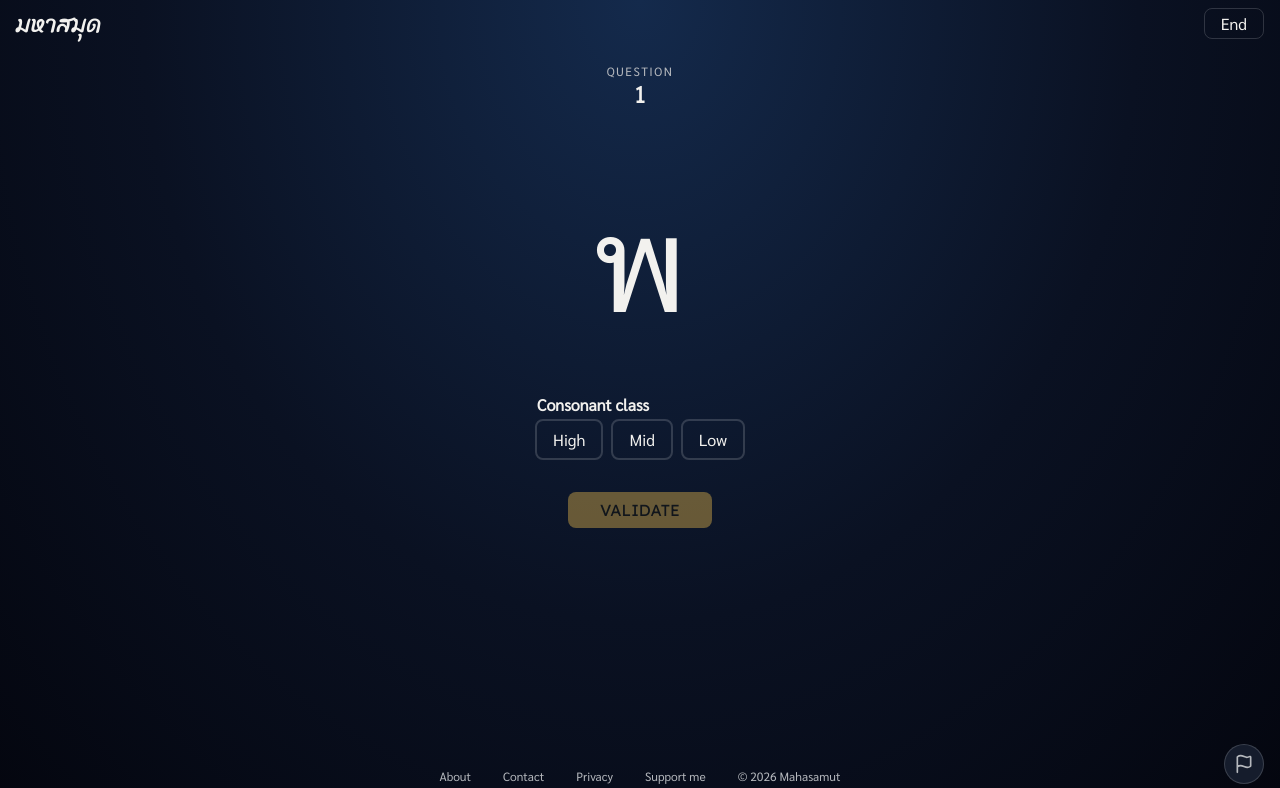
Test: SiteFooter › asks before leaving a game for the about page, like the logo
The image size is (1280, 788).
Click the radio button labelled "High" at (569, 439), box [535,419,604,460]
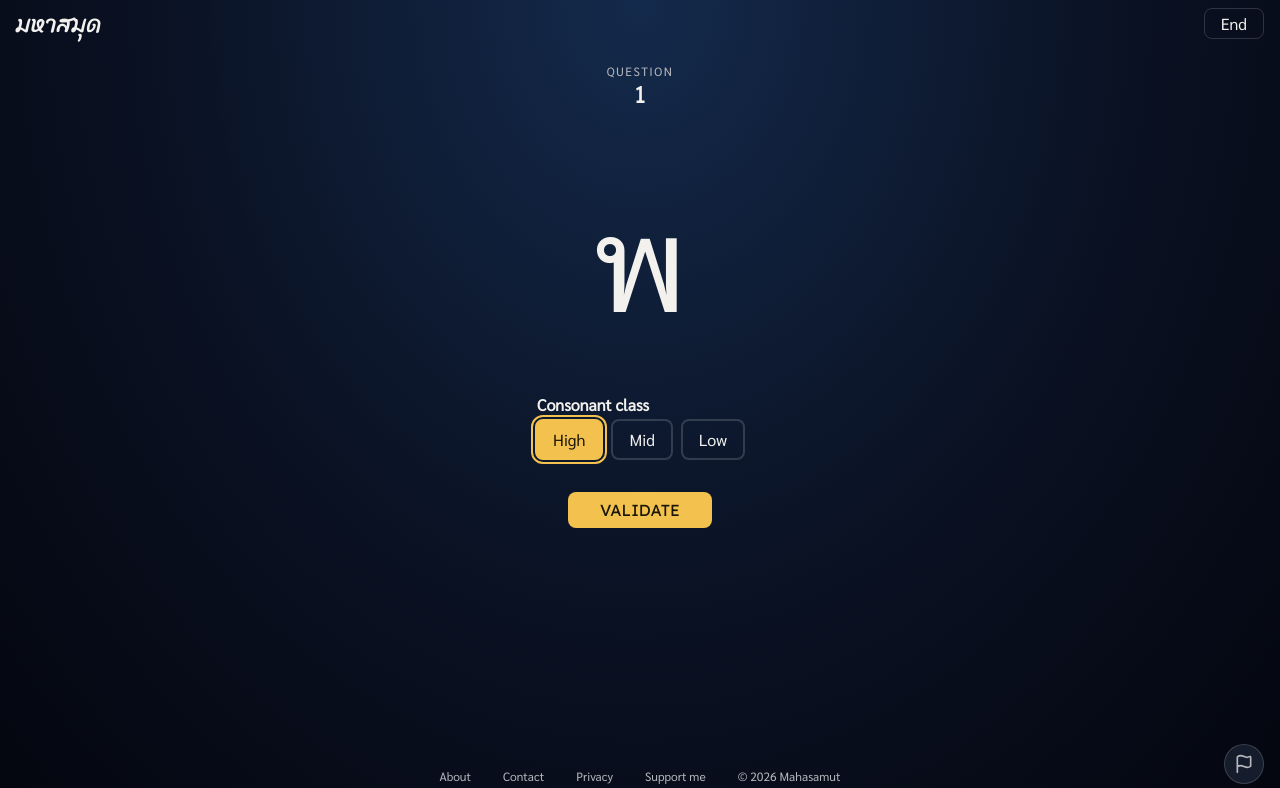
Click the button "Validate" at (640, 510), box [568,492,712,528]
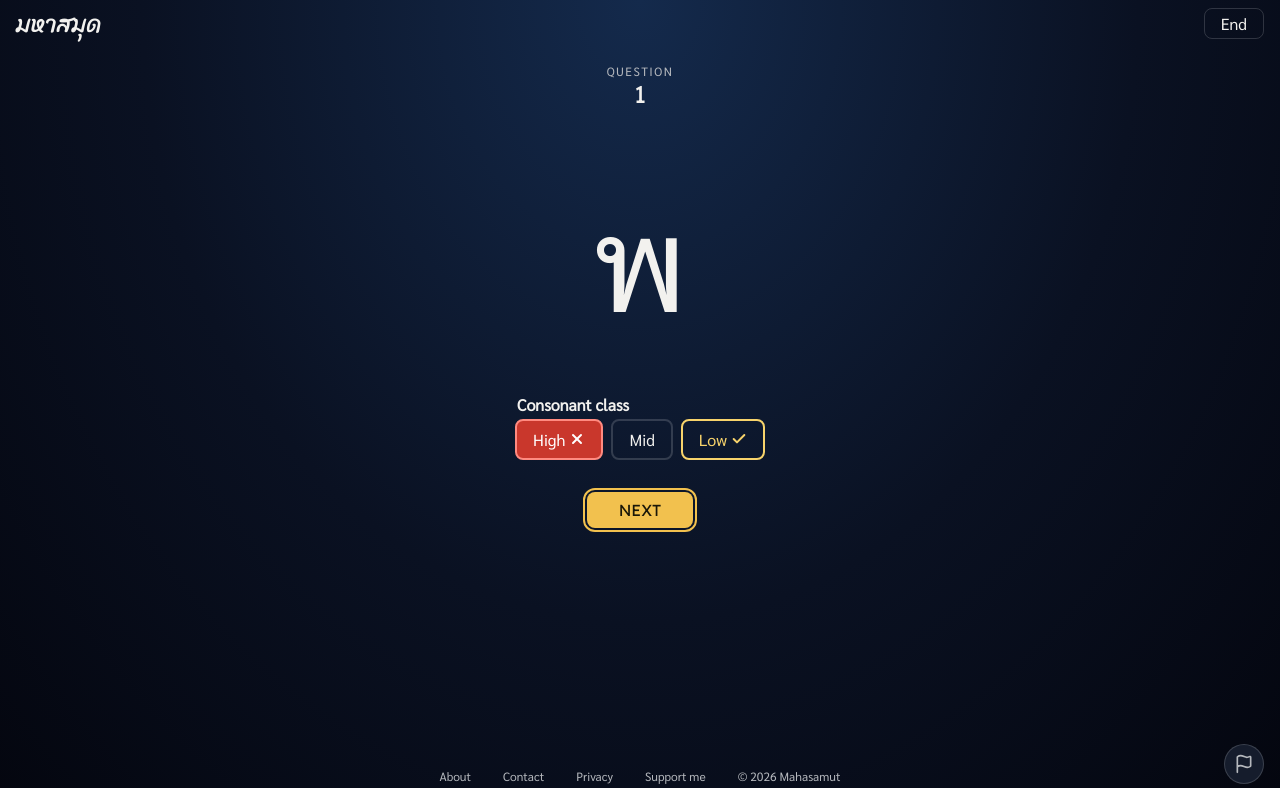
Click the link "About" at (455, 776), box [440,768,471,784]
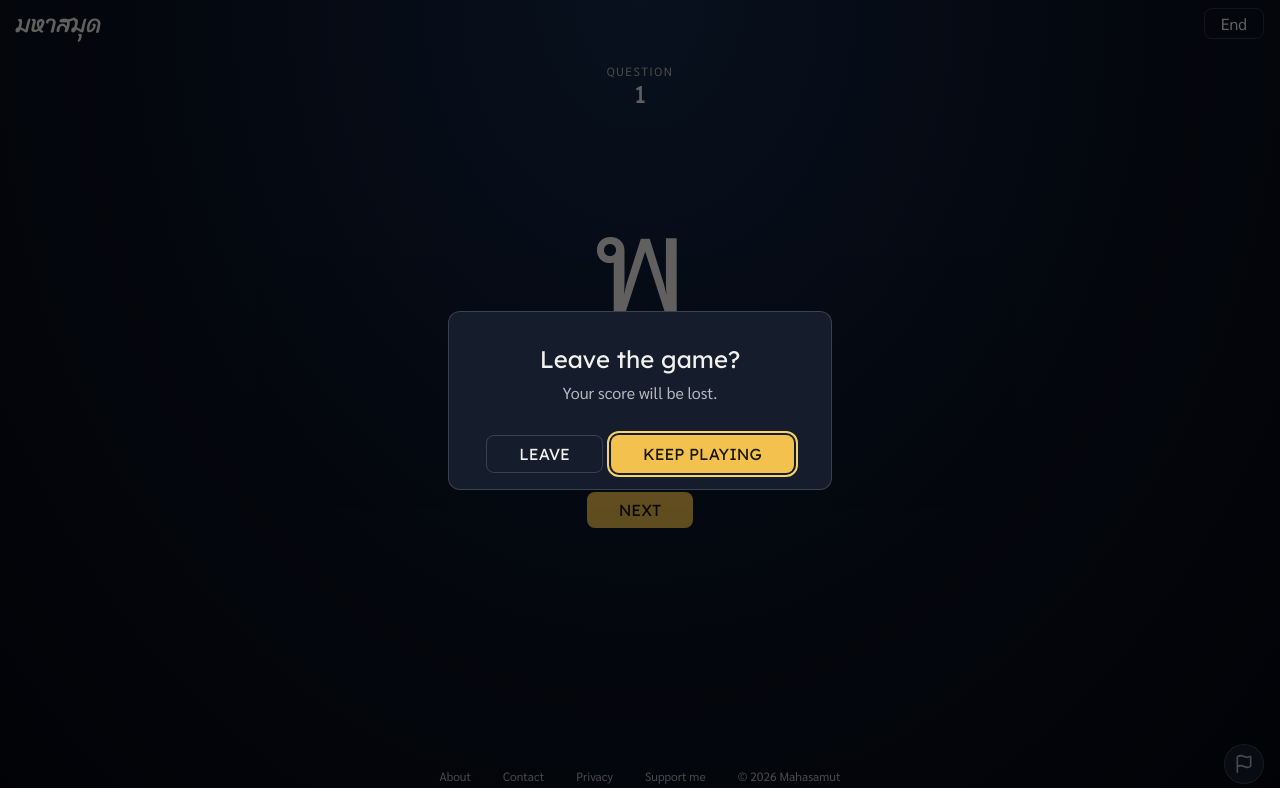
Now the dialog "Leave the game?" is shown, box [448,310,832,490]
Click the button "Leave" at (545, 454), box [486,434,603,472]
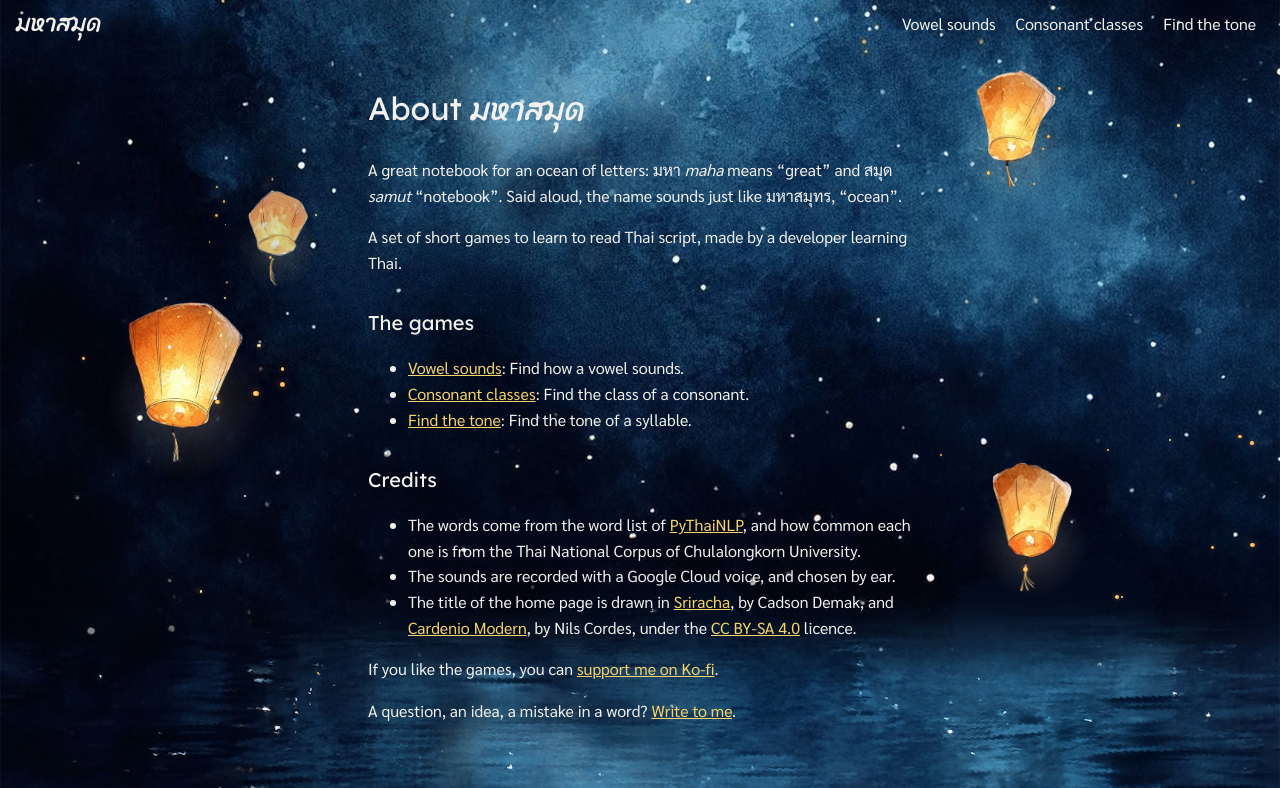
Now the heading "About มหาสมุด" is shown, box [368,81,584,138]
